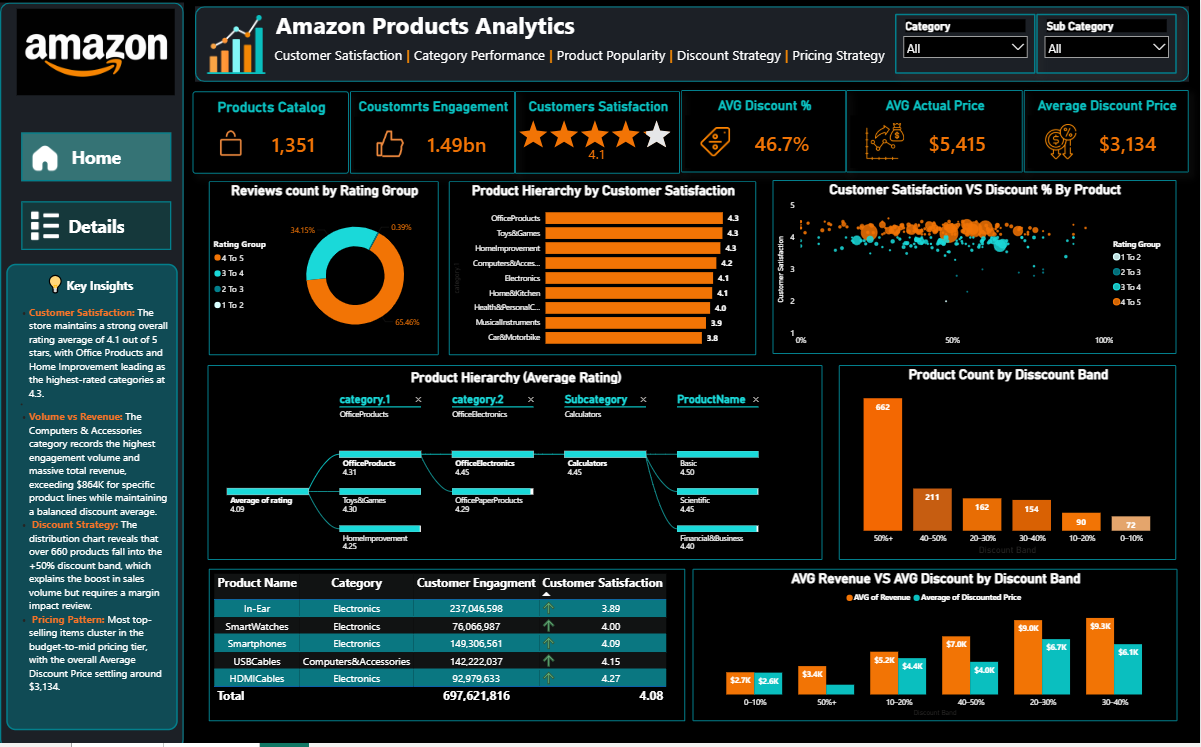

Layout of this report page (visuals, bound fields, positions):
{"tool":"powerbi","page":{"name":"Home","canvas":[1920,1200],"ordinal":0},"visuals":[{"type":"shape","box":[0,4,294,1194],"z":0},{"type":"image","box":[26,14,254,138],"z":1000},{"type":"shape","box":[312,10,1590.4,121.2],"z":2000},{"type":"textbox","box":[436,10,525,82.7],"z":3000},{"type":"textbox","box":[434,68,1365.4,82.7],"z":4000},{"type":"cardVisual","title":"Products Catalog","fields":{"Data":["Count(Amazon DataSet.product_id)"]},"box":[308,146,250,132],"z":5000},{"type":"cardVisual","title":"Coustomrts Engagement","fields":{"Data":["Sum(Amazon DataSet.rating_count)"]},"box":[559.2,145.6,264,132],"z":6000},{"type":"PBI_CV_9053509D_D461_463A_B485_CE9F6AB0F13D","title":"Customers Satisfaction","fields":{"value":["Amazon DataSet.AVG Rating"]},"box":[824.4,145.2,264,132],"z":7000},{"type":"cardVisual","title":"AVG Discount %","fields":{"Data":["Avg(Amazon DataSet.discount_percentage)"]},"box":[1089.6,144.8,264,132],"z":8000},{"type":"cardVisual","title":"AVG Actual Price","fields":{"Data":["Avg(Amazon DataSet.Revenue)"]},"box":[1354.8,144.4,282,132],"z":9000},{"type":"cardVisual","title":"Average Discount Price","fields":{"Data":["Avg(Amazon DataSet.discounted_price.2)"]},"box":[1638,144,264,132],"z":10000},{"type":"donutChart","title":"Reviews count by Rating Group","fields":{"Category":["Amazon DataSet.Rating Group"],"Y":["Sum(Amazon DataSet.rating)"]},"box":[334,290,368,278],"z":11000},{"type":"clusteredBarChart","title":"Product Hierarchy by Customer Satisfaction","fields":{"Category":["Amazon DataSet.category.1","Amazon DataSet.category.2","Amazon DataSet.Subcategory"],"Y":["Avg(Amazon DataSet.rating)"]},"box":[718,290,492,278],"z":12000},{"type":"scatterChart","title":"Customer Satisfaction VS Discount % By Product","fields":{"Category":["Amazon DataSet.ProductName"],"Series":["Amazon DataSet.Rating Group"],"Size":["Sum(Amazon DataSet.rating_count)"],"X":["Avg(Amazon DataSet.discount_percentage)"],"Y":["Avg(Amazon DataSet.rating)"]},"box":[1236,288,646,278],"z":13000},{"type":"decompositionTreeVisual","title":"Product Hierarchy (Average Rating)","fields":{"Analyze":["Avg(Amazon DataSet.rating)"],"ExplainBy":["Amazon DataSet.category.1","Amazon DataSet.category.2","Amazon DataSet.Subcategory","Amazon DataSet.ProductName"]},"box":[332,584,984,312],"z":14000},{"type":"image","box":[322,24,111.8,94.1],"z":15000},{"type":"columnChart","title":"Product Count by Disscount Band","fields":{"Category":["Amazon DataSet.Discount Band "],"Y":["Count(Amazon DataSet.product_id)"]},"box":[1342,584,540,312],"z":16000},{"type":"tableEx","title":"Product Count by Disscount Band","fields":{"Values":["Amazon DataSet.ProductName","Amazon DataSet.category.1","Sum(Amazon DataSet.rating_count)","Amazon DataSet.AVG Rating"]},"box":[334,910,762,244],"z":17000},{"type":"clusteredColumnChart","title":"AVG Revenue VS AVG Discount by Discount Band","fields":{"Category":["Amazon DataSet.Discount Band "],"Y":["Avg(Amazon DataSet.Revenue)","Avg(Amazon DataSet.discounted_price.2)"]},"box":[1108,910,776,244],"z":18000},{"type":"slicer","fields":{"Values":["Amazon DataSet.category.1"]},"box":[1432,22,225,95.8],"z":18001},{"type":"slicer","fields":{"Values":["Amazon DataSet.Subcategory"]},"box":[1658,22,225,95.8],"z":18002},{"type":"actionButton","title":"Home","box":[34,212,240,78],"z":18003},{"type":"actionButton","title":"Home","box":[34,322,240,78],"z":18004},{"type":"textbox","box":[10,422,274,746],"z":18005},{"type":"image","box":[48,218,48,70],"z":18006},{"type":"image","box":[48,322,48,78],"z":18007}]}

Visuals, with their boxes in screenshot pixels (x1, y1, x2, y2), scaled from the page's 1920x1200 canvas onto the 1201x747 screenshot:
shape: left=0, top=2, right=184, bottom=746
image: left=16, top=9, right=175, bottom=95
shape: left=195, top=6, right=1190, bottom=82
textbox: left=273, top=6, right=601, bottom=58
textbox: left=271, top=42, right=1126, bottom=94
"Products Catalog" cardVisual: left=193, top=91, right=349, bottom=173
"Coustomrts Engagement" cardVisual: left=350, top=91, right=515, bottom=173
"Customers Satisfaction" PBI_CV_9053509D_D461_463A_B485_CE9F6AB0F13D: left=516, top=90, right=681, bottom=173
"AVG Discount %" cardVisual: left=682, top=90, right=847, bottom=172
"AVG Actual Price" cardVisual: left=847, top=90, right=1024, bottom=172
"Average Discount Price" cardVisual: left=1025, top=90, right=1190, bottom=172
"Reviews count by Rating Group" donutChart: left=209, top=181, right=439, bottom=354
"Product Hierarchy by Customer Satisfaction" clusteredBarChart: left=449, top=181, right=757, bottom=354
"Customer Satisfaction VS Discount % By Product" scatterChart: left=773, top=179, right=1177, bottom=352
"Product Hierarchy (Average Rating)" decompositionTreeVisual: left=208, top=364, right=823, bottom=558
image: left=201, top=15, right=271, bottom=74
"Product Count by Disscount Band" columnChart: left=839, top=364, right=1177, bottom=558
"Product Count by Disscount Band" tableEx: left=209, top=566, right=686, bottom=718
"AVG Revenue VS AVG Discount by Discount Band" clusteredColumnChart: left=693, top=566, right=1178, bottom=718
slicer - Amazon DataSet.category.1: left=896, top=14, right=1036, bottom=73
slicer - Amazon DataSet.Subcategory: left=1037, top=14, right=1178, bottom=73
"Home" actionButton: left=21, top=132, right=171, bottom=181
"Home" actionButton: left=21, top=200, right=171, bottom=249
textbox: left=6, top=263, right=178, bottom=727
image: left=30, top=136, right=60, bottom=179
image: left=30, top=200, right=60, bottom=249
